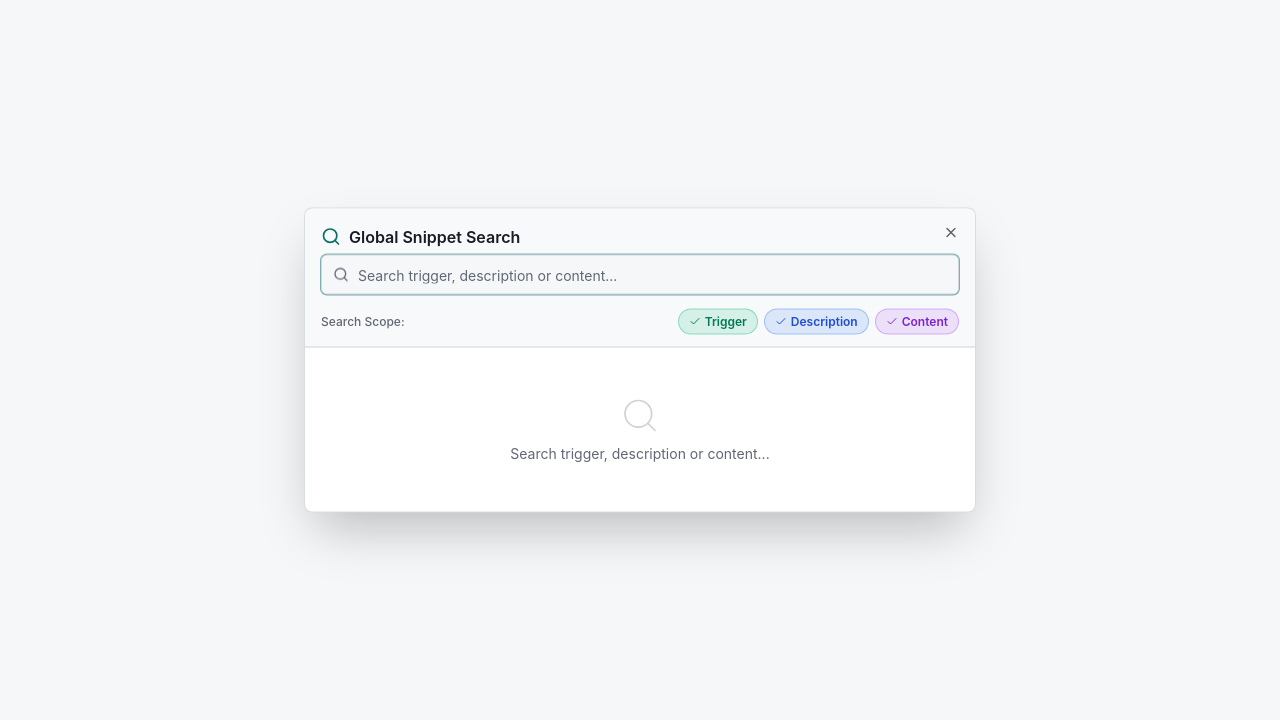
Test: SearchDialog › does not render SQLite index status returned by indexed search
The width and height of the screenshot is (1280, 720).
Type "hello" into the field with placeholder "Search trigger, description or content...".
click(640, 274); type("hello")  # box left=321, top=254, right=959, bottom=294
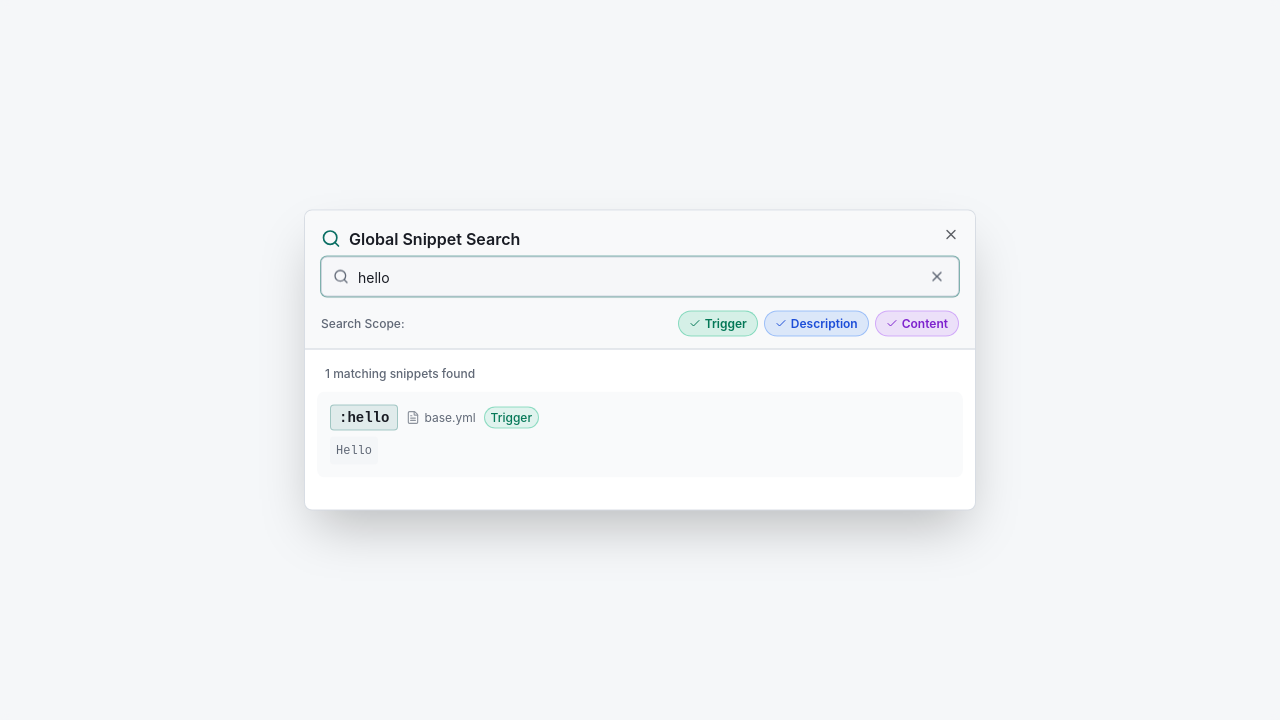
Expected: the text ":hello" is shown, left=330, top=404, right=398, bottom=430
